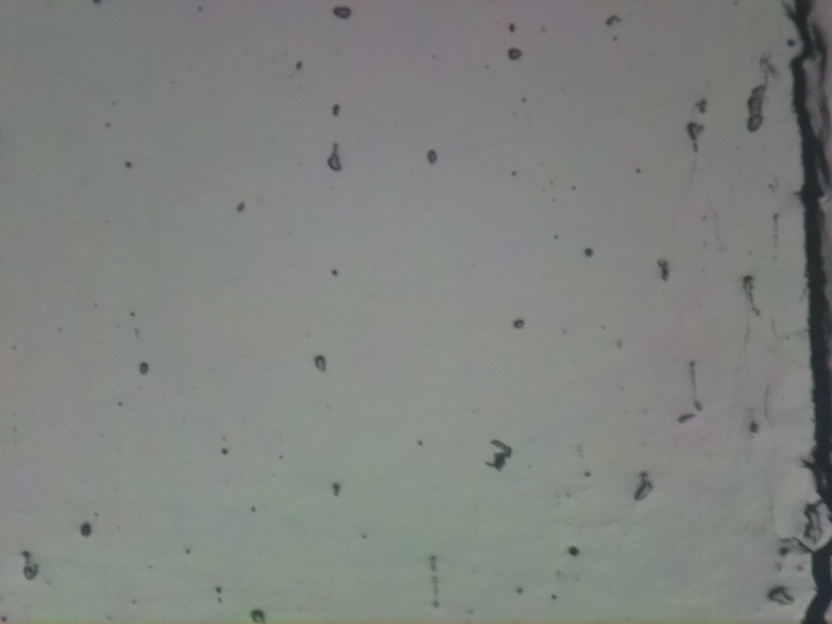crack: (785, 0, 832, 624)
